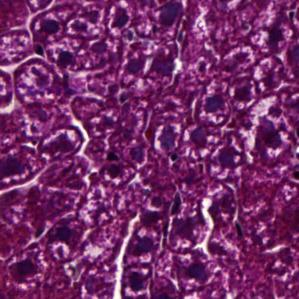inflammation: (36, 122, 85, 166), (146, 118, 187, 160), (226, 73, 261, 114)
